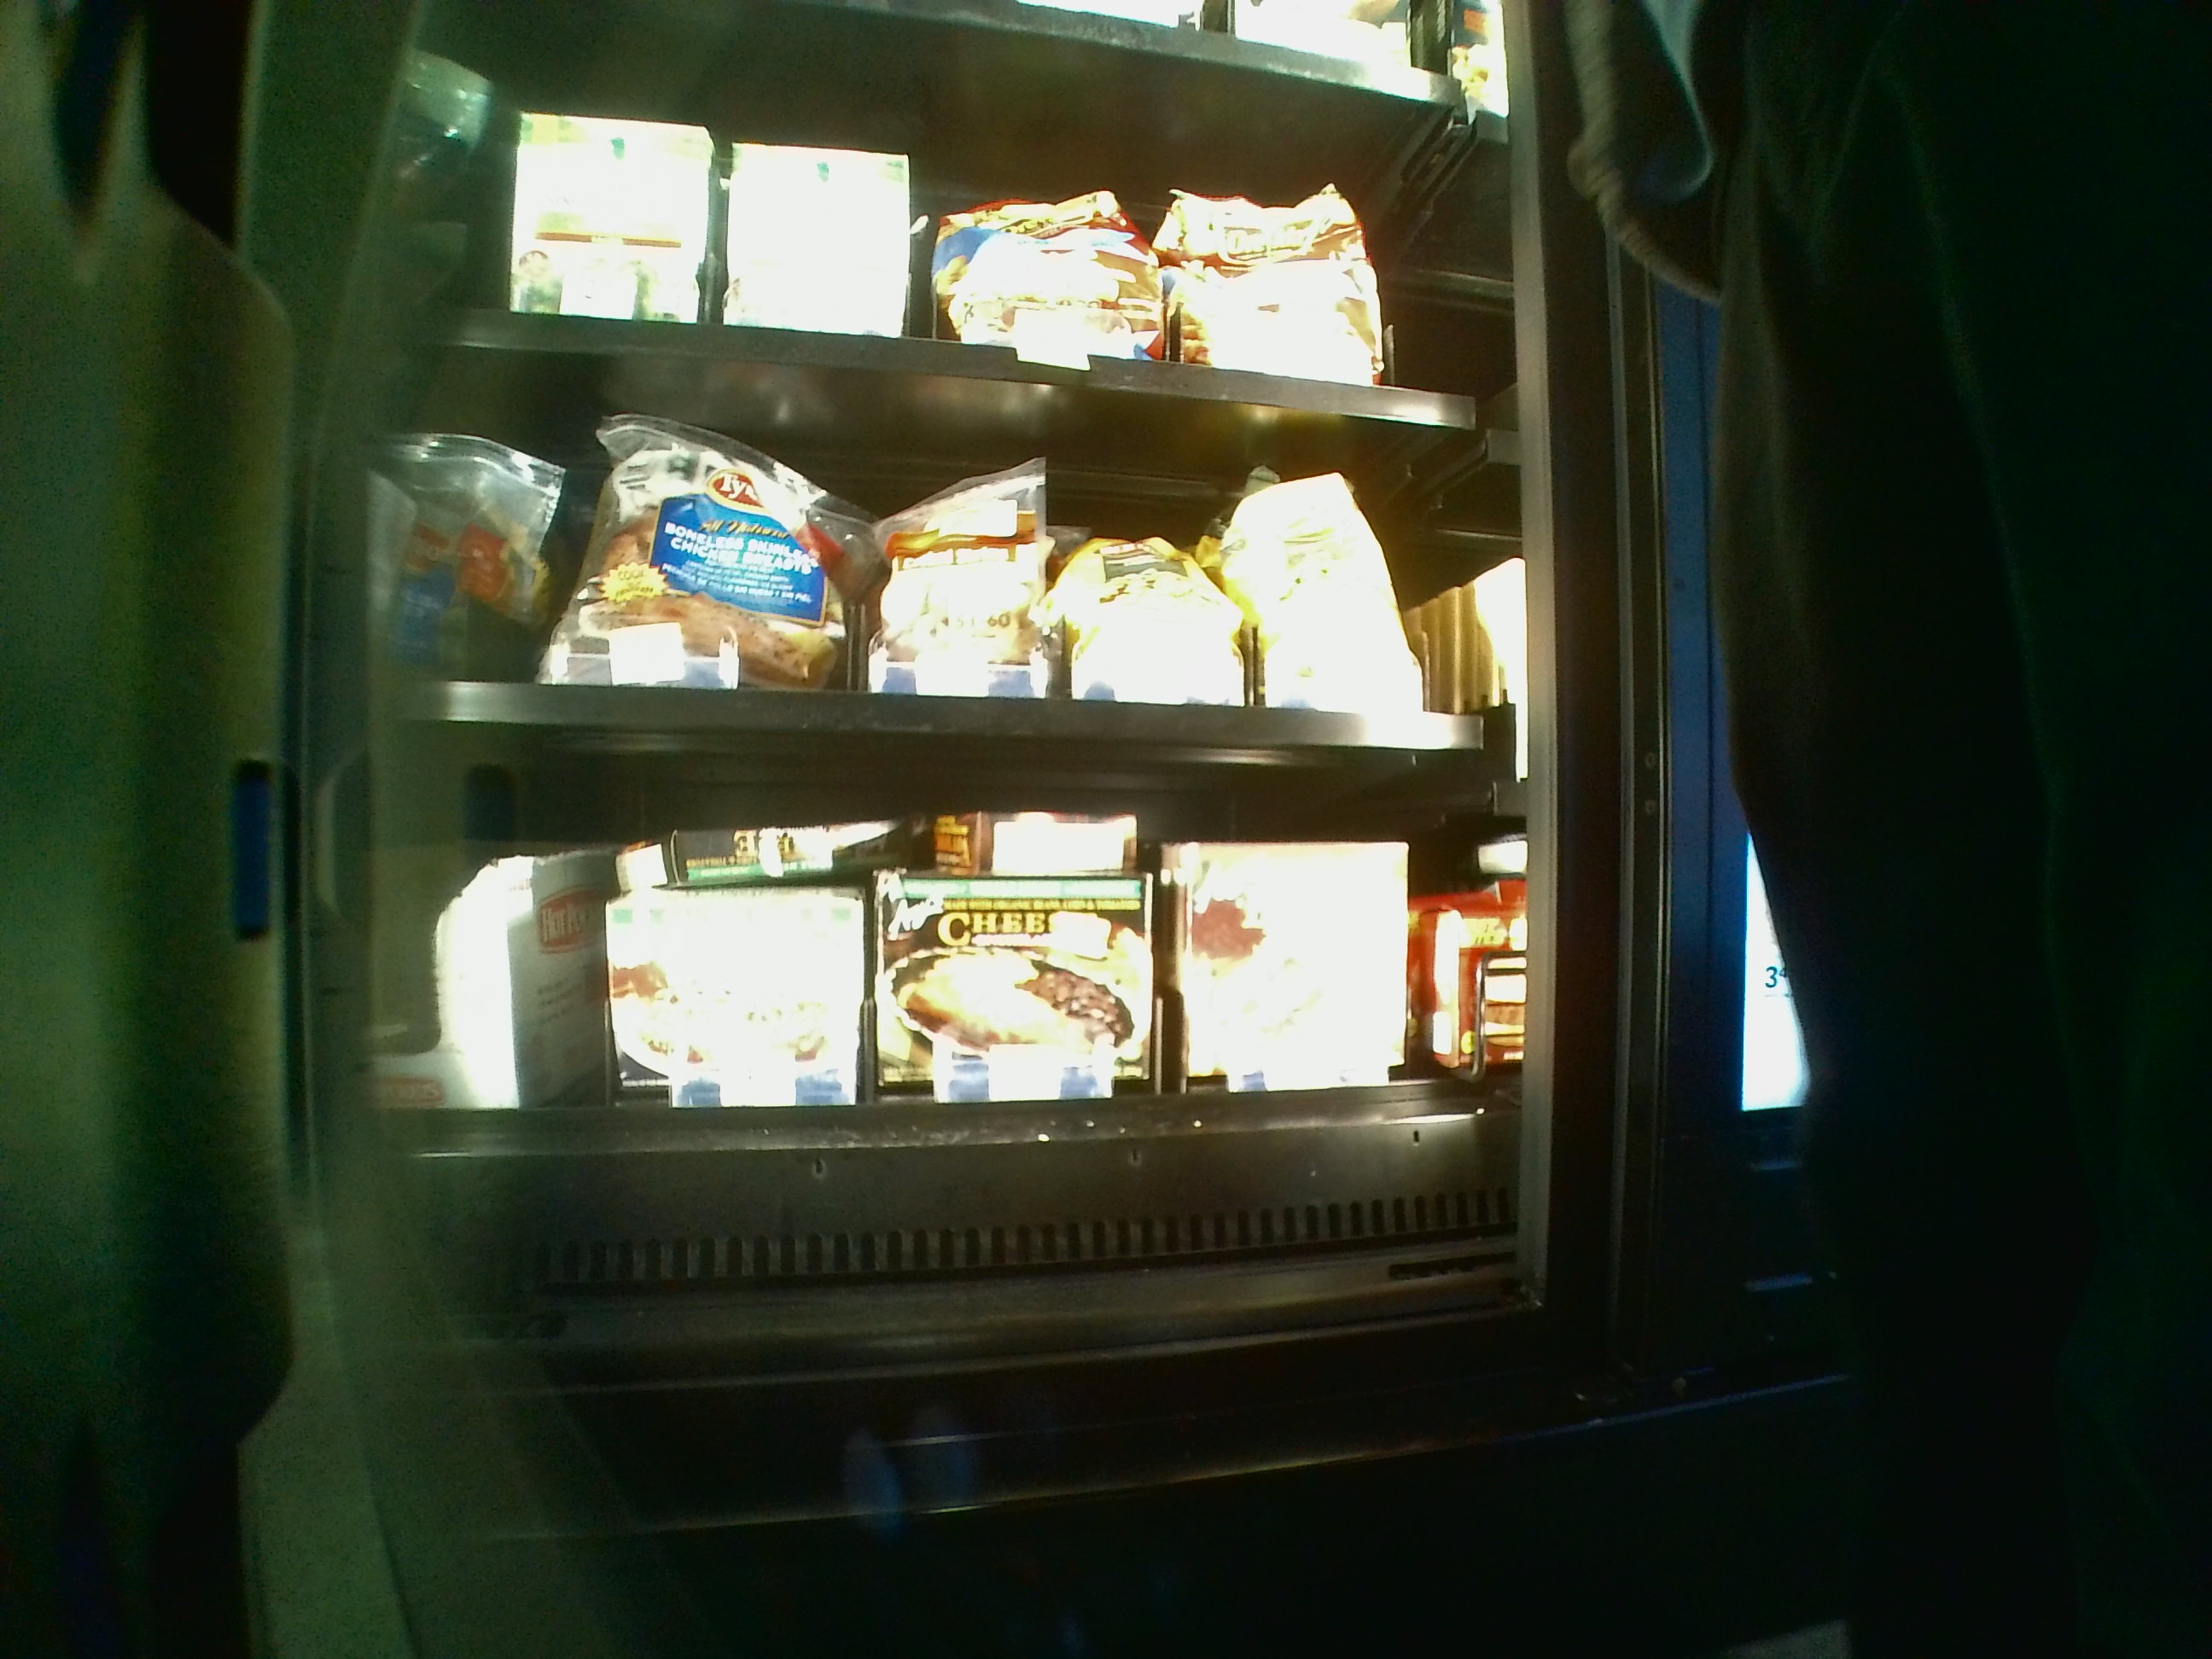shelf: (388, 763, 1521, 1297), (399, 347, 1519, 744)
